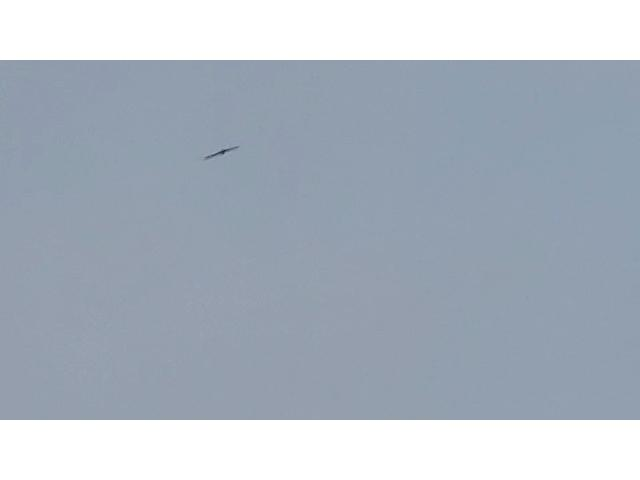Anti-Drone: (203, 143, 241, 160)
